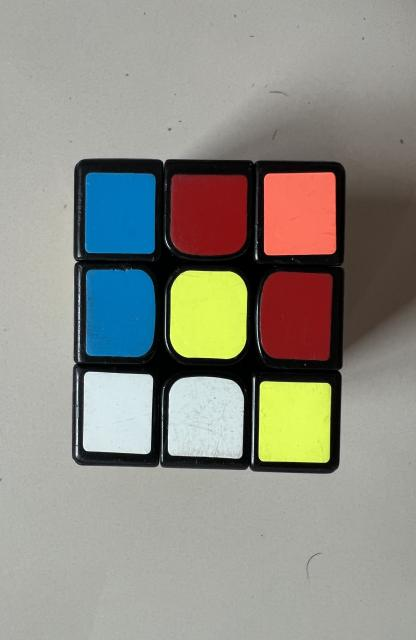Blue: (86, 269, 156, 358), (84, 172, 156, 254)
Orange: (263, 172, 337, 255)
Red: (260, 271, 333, 361), (170, 174, 248, 256)
White: (168, 376, 244, 459), (82, 371, 153, 454)
Yellow: (170, 270, 247, 359), (259, 381, 332, 462)
